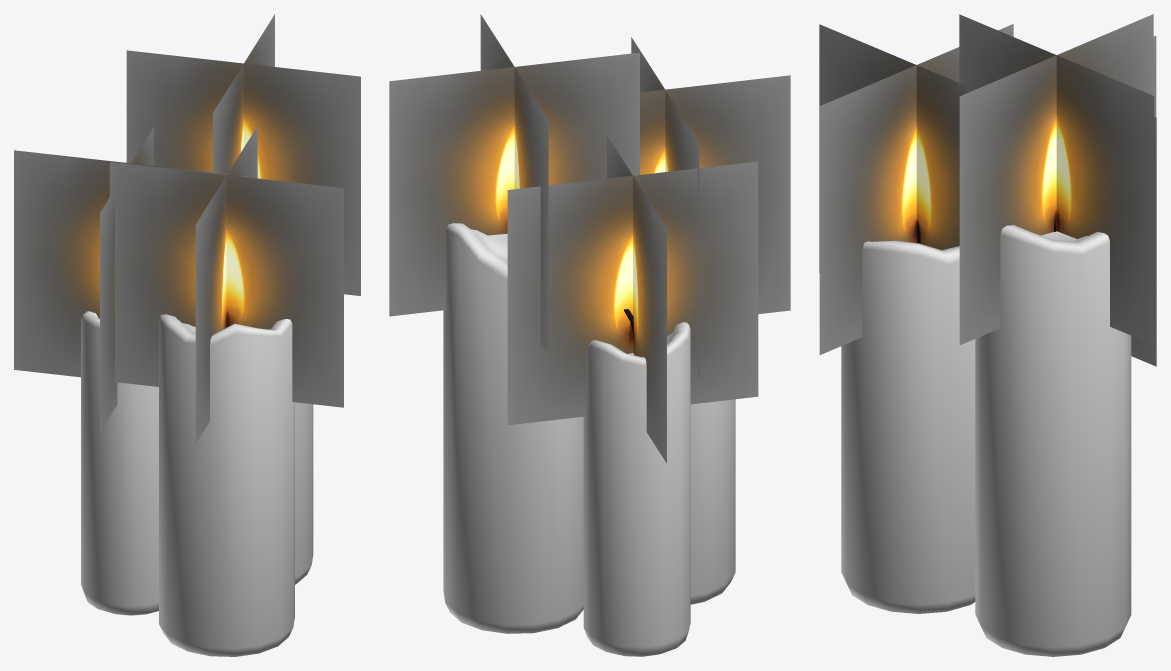
The model's file is candles.glb.
3 views of the same model, side by side, from view 1: azimuth 30°, elevation 25°; view 2: azimuth 150°, elevation 25°; view 3: azimuth 270°, elevation 25° (orthographic). The views are drawn at different scales.
Visible parts, largest first — view 1: flames, candles; view 2: flames, candles; view 3: candles, flames.
Boxes of the visible parts, x1,y1,x2,y2 form: flames: (14, 14, 360, 443); candles: (81, 311, 313, 656); flames: (389, 14, 790, 463); candles: (443, 223, 735, 656); candles: (841, 215, 1131, 656); flames: (819, 14, 1156, 366).
Bounding box in the file's own units: 0.4375 × 0.8149 × 0.433.
3 materials, 1 textured.
